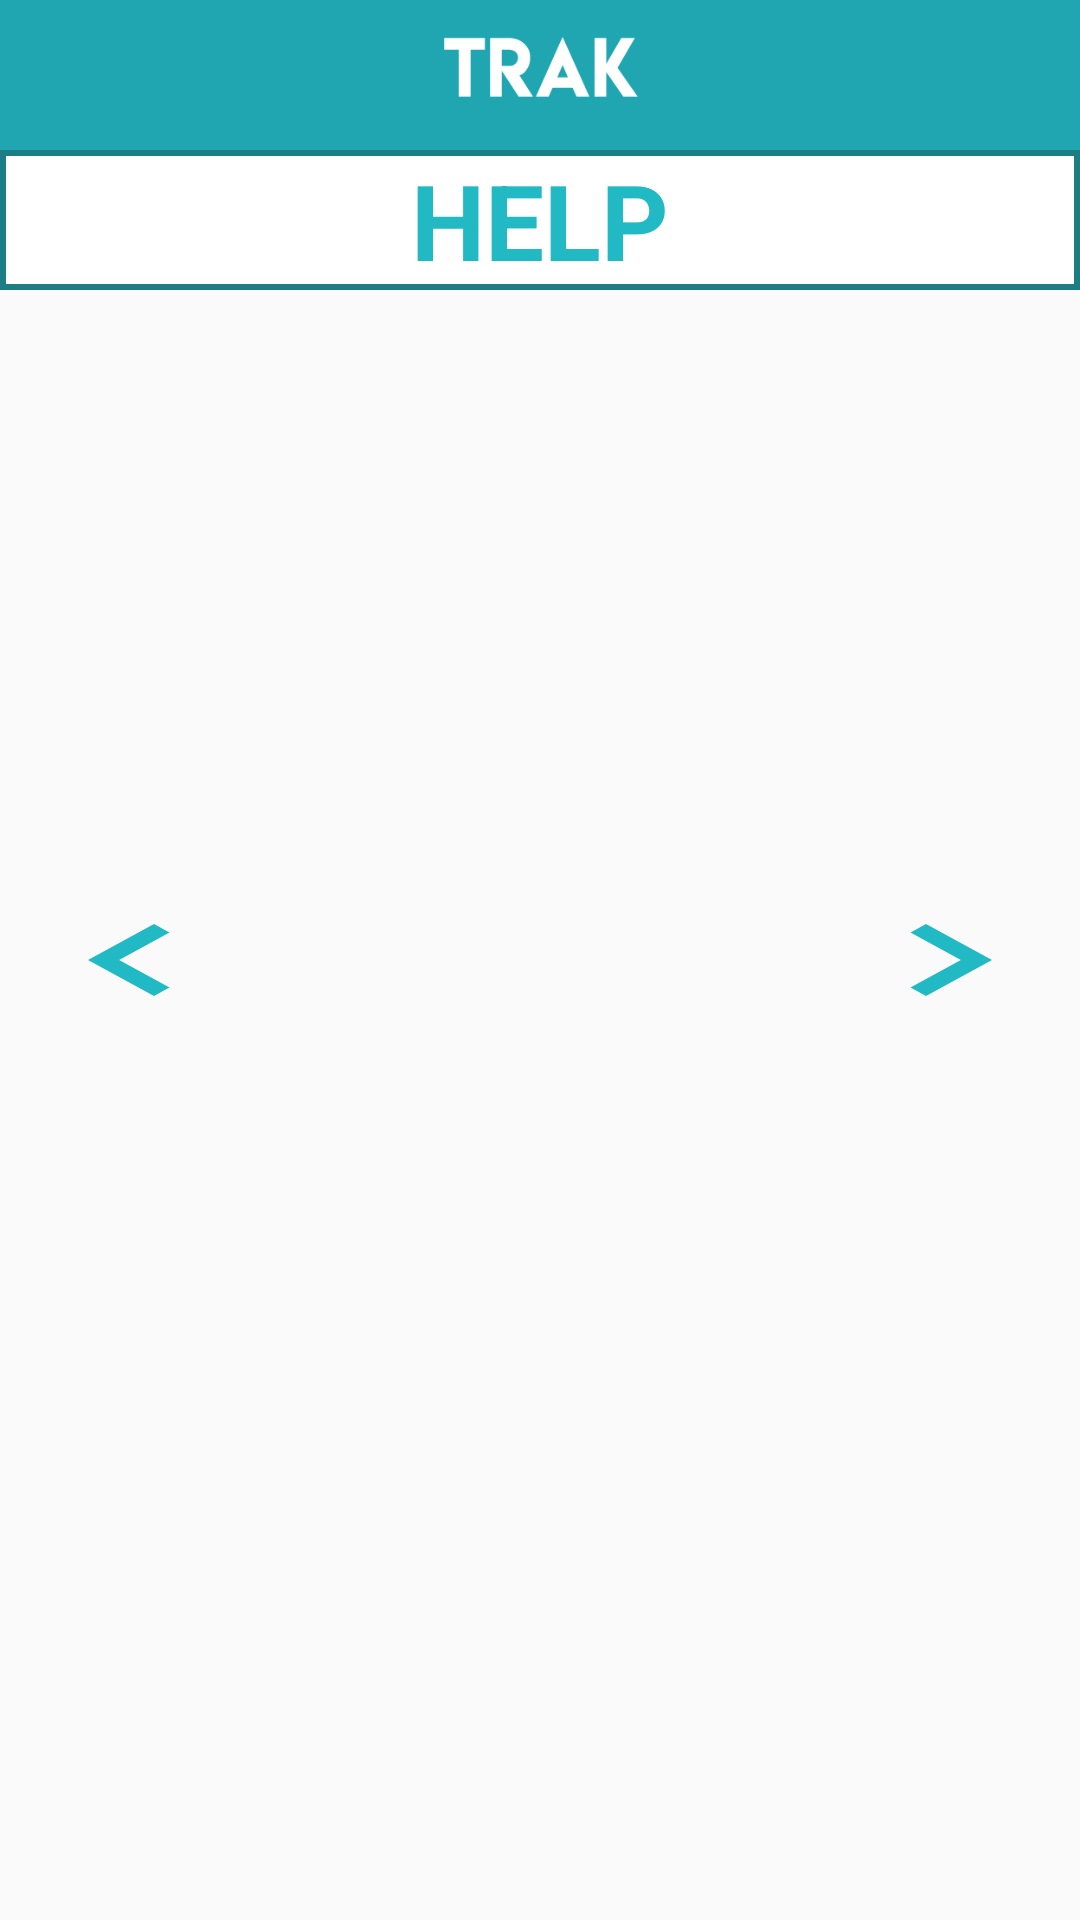

Point at icon controls on the screen. Image size 1080 × 1920, points as (x,y).
left back: (129,960)
right next: (951,960)
